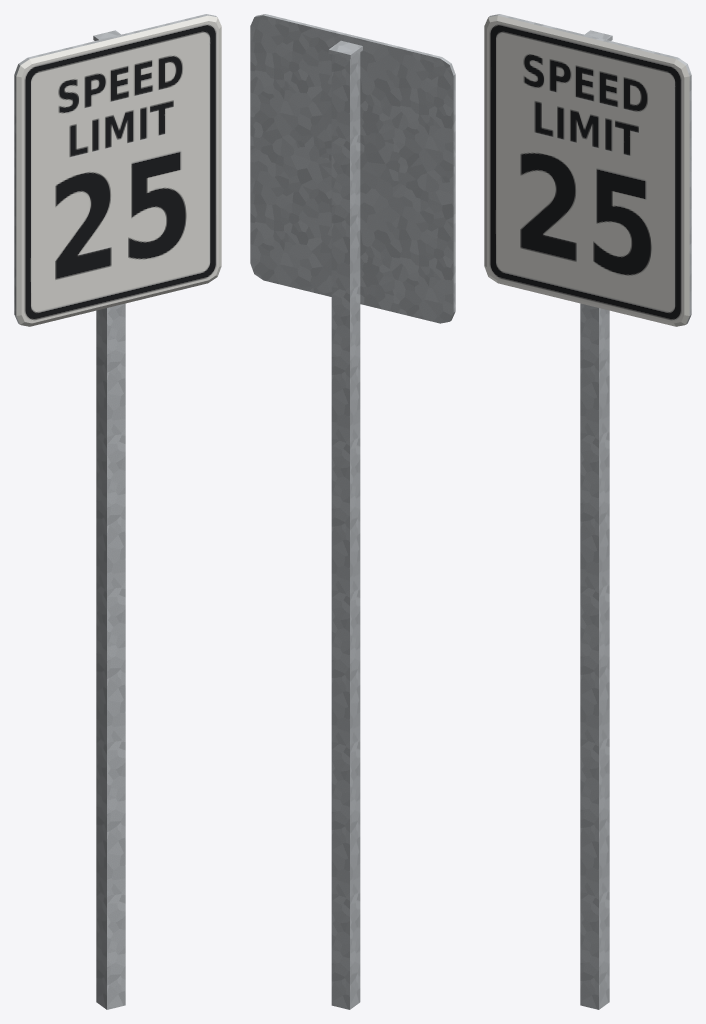
The model's file is speed_limit_25.gltf.
The picture shows the model from 3 angles, left to right: view 1: azimuth 30°, elevation 25°; view 2: azimuth 150°, elevation 25°; view 3: azimuth 330°, elevation 25°; orthographic projection.
Parts seen in each view (by area): view 1: speed_limit_25; view 2: speed_limit_25; view 3: speed_limit_25.
Part boxes in pixels (x1=…): speed_limit_25: x1=14, y1=14, x2=221, y2=1009; speed_limit_25: x1=250, y1=14, x2=455, y2=1009; speed_limit_25: x1=484, y1=14, x2=691, y2=1009.
Bounding box in the file's own units: 0.7015 × 3.17 × 0.0943.
Materials: 2 (2 with a texture image).
